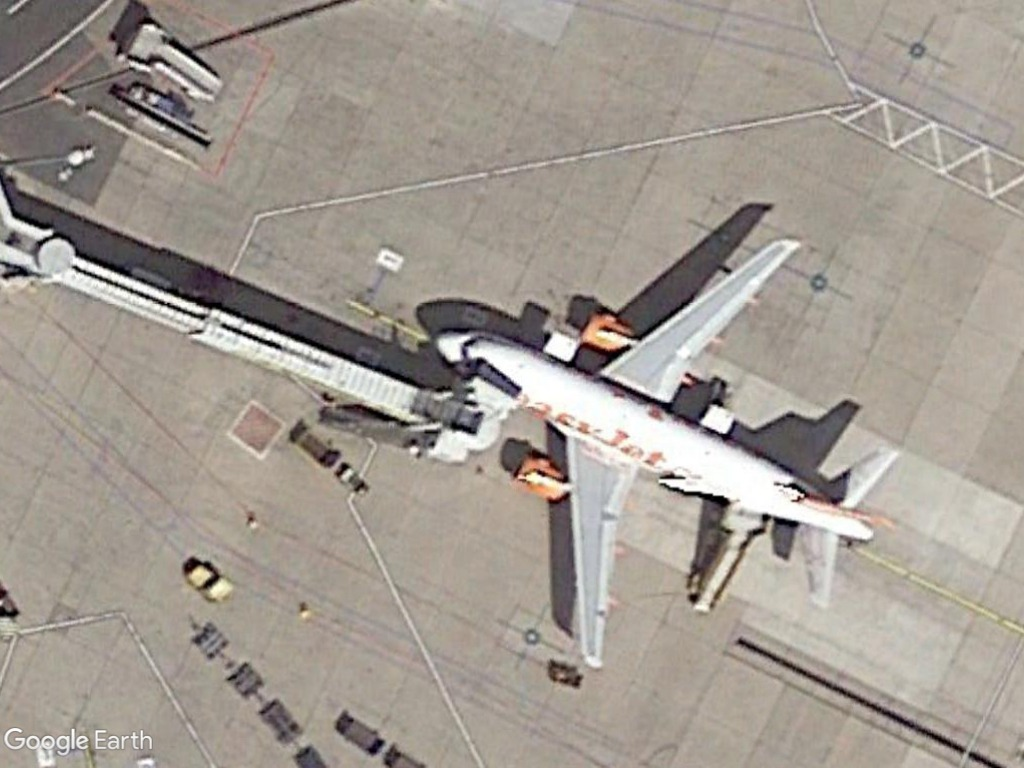airliner: (428, 234, 901, 672)
stairtruck: (686, 504, 768, 621), (121, 18, 227, 106)
